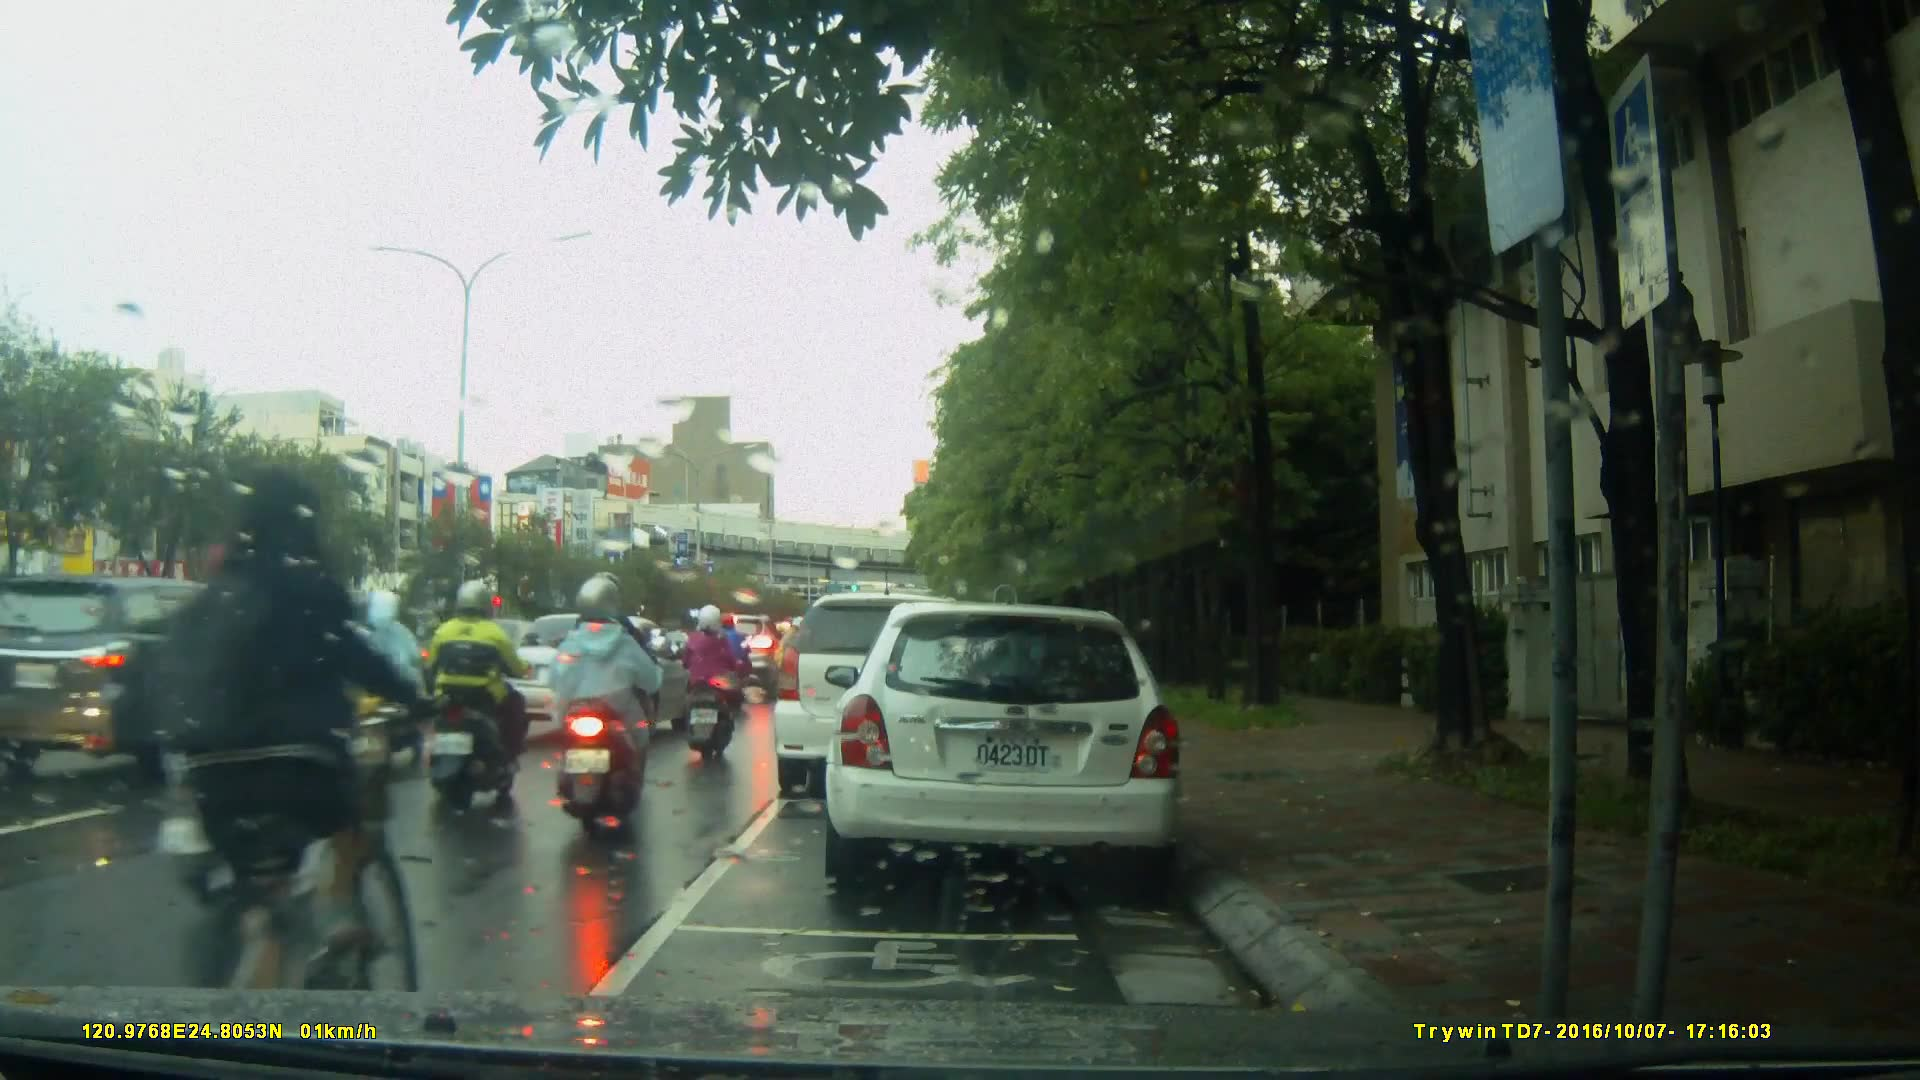rider: (169, 456, 431, 1040), (171, 534, 327, 927), (556, 573, 655, 842), (428, 578, 541, 807), (576, 574, 661, 788), (345, 584, 441, 770), (675, 608, 740, 771), (711, 610, 751, 696)
vehicle: (822, 604, 1188, 883), (1, 572, 314, 784), (774, 595, 995, 802), (495, 611, 703, 745), (689, 614, 793, 702)
